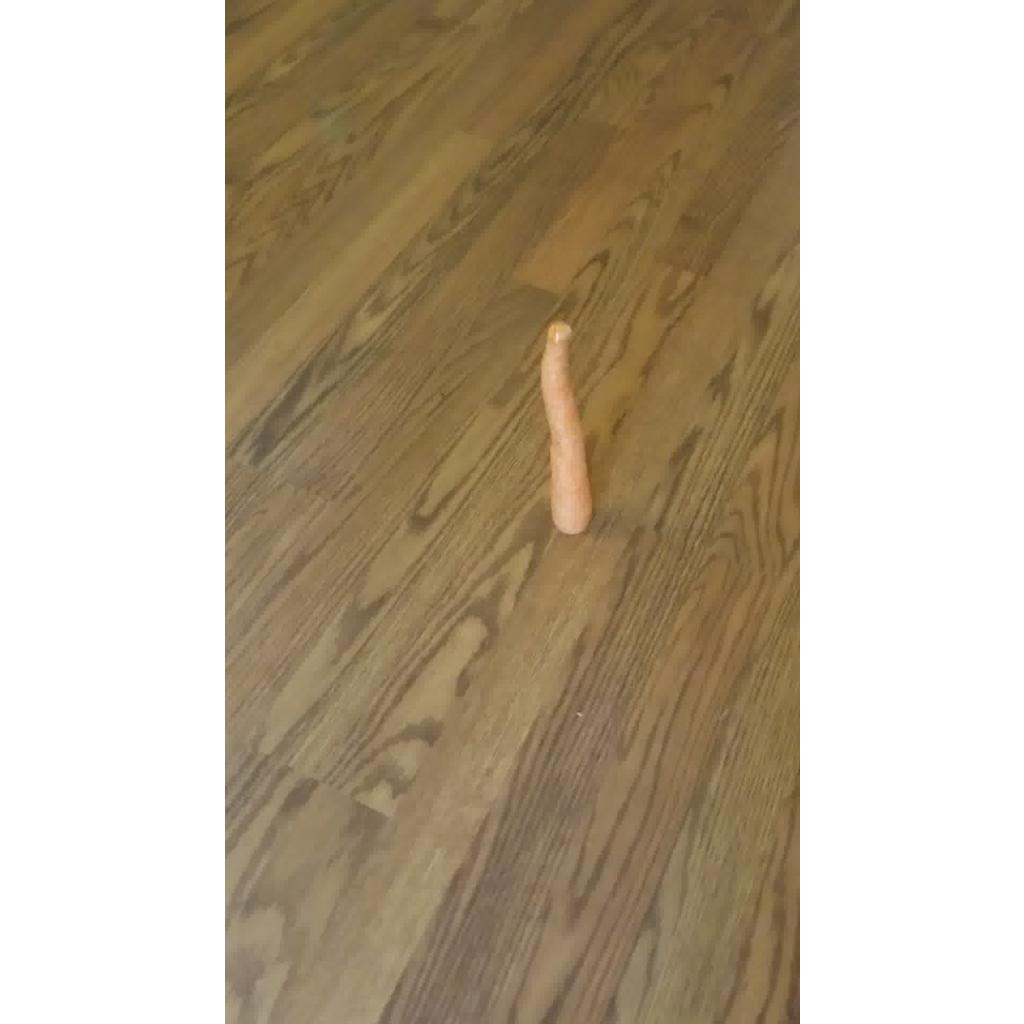carrot: (540, 322, 592, 534)
